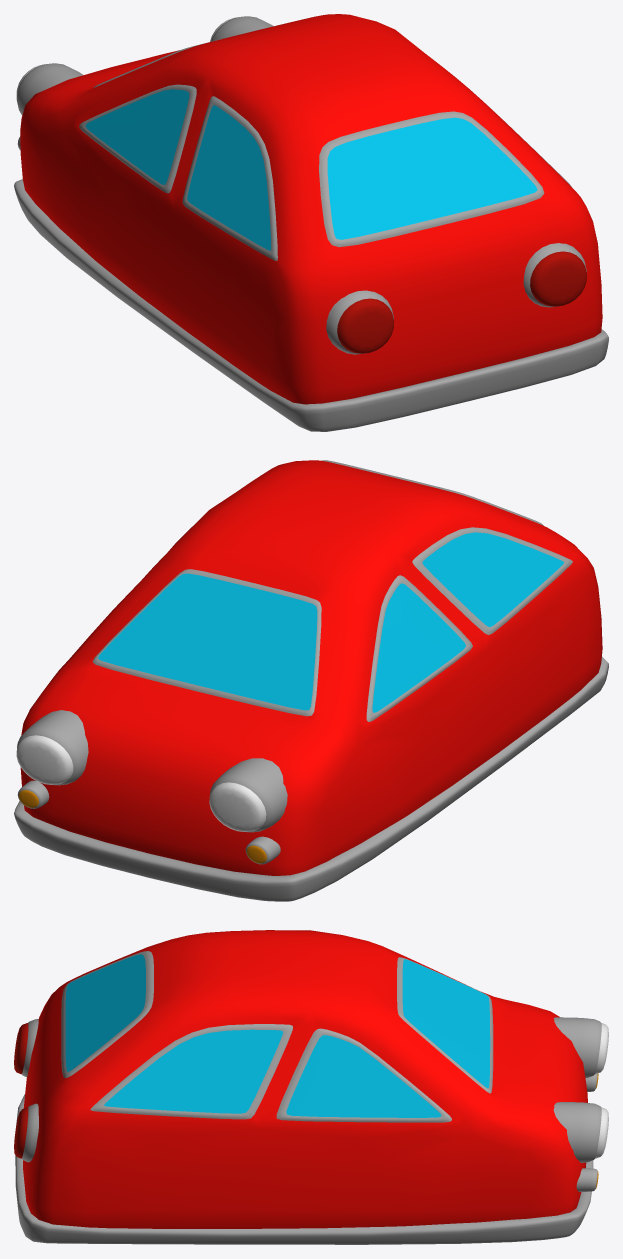
The model's file is TinyCar_Chassis.glb.
3 views of the same model, one above another, from view 1: azimuth 30°, elevation 25°; view 2: azimuth 150°, elevation 25°; view 3: azimuth 270°, elevation 25° (orthographic). The views are drawn at different scales.
Parts seen in each view (by area): view 1: Chassis; view 2: Chassis; view 3: Chassis.
Part boxes in pixels (x1,y1,x2,y2): Chassis: (14,14,608,431); Chassis: (14,460,608,901); Chassis: (14,930,608,1244).
Bounding box in the file's own units: 4.16 × 3.06 × 7.39.
